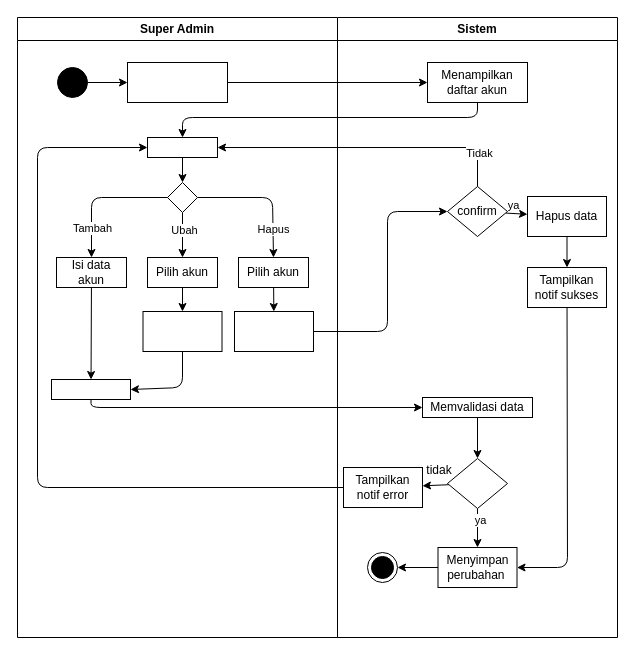
This 635x655 diagram has some shape labels left out. The box of each missing label's shape, as (x1, y1, x2, y2) in pixels:
Buka halaman pengguna: (126, 62, 228, 102)
Konfirmasi penghapusan: (234, 310, 314, 352)
Pilih aksi: (146, 136, 218, 158)
Simpan: (50, 378, 130, 400)
Ubah data akun: (142, 310, 222, 352)
valid?: (446, 458, 508, 508)
